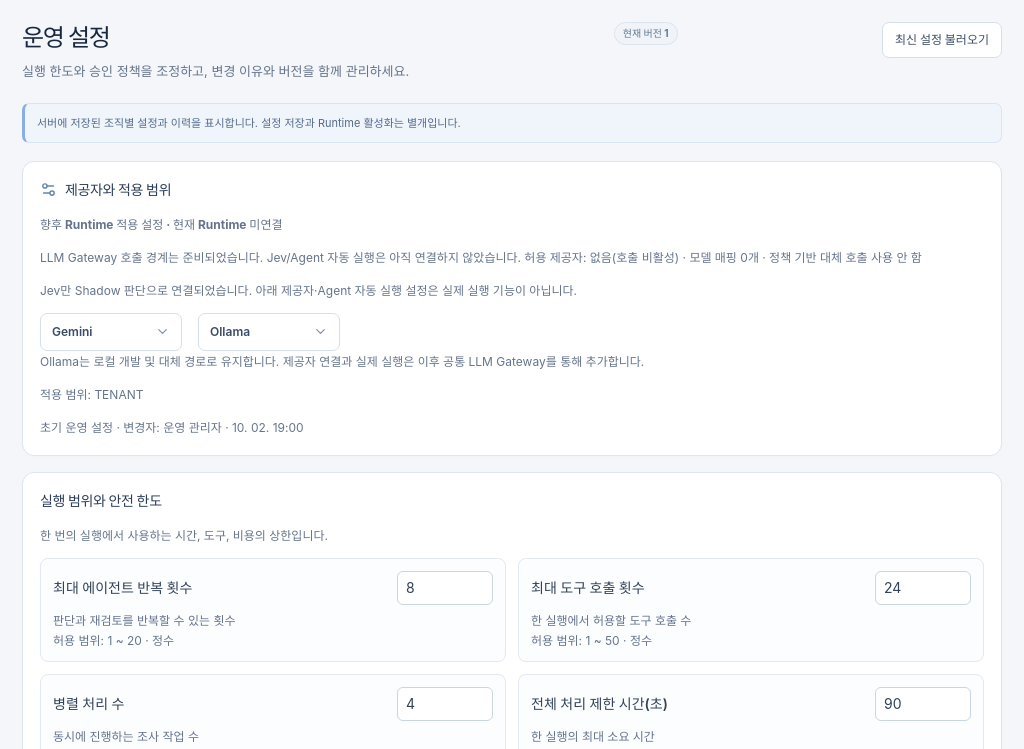
실제 Control Plane 화면 › 중복 submit을 막고 네트워크 재시도에는 동일 key를 유지한다
Replace the text in the number field labelled "최대 에이전트 반복 횟수" with "10" at (445, 588), box [397, 571, 493, 605]
(page scrolled)
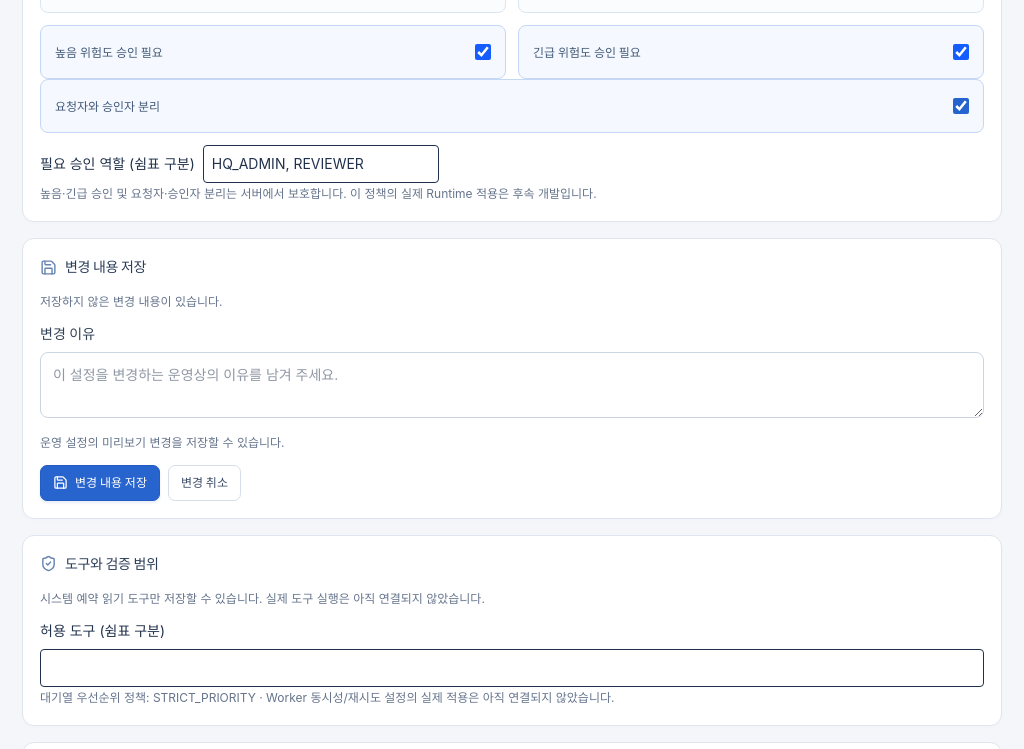
Type "예산 조정" into the text box labelled "변경 이유" at (512, 385), box [40, 352, 984, 418]
(page scrolled)
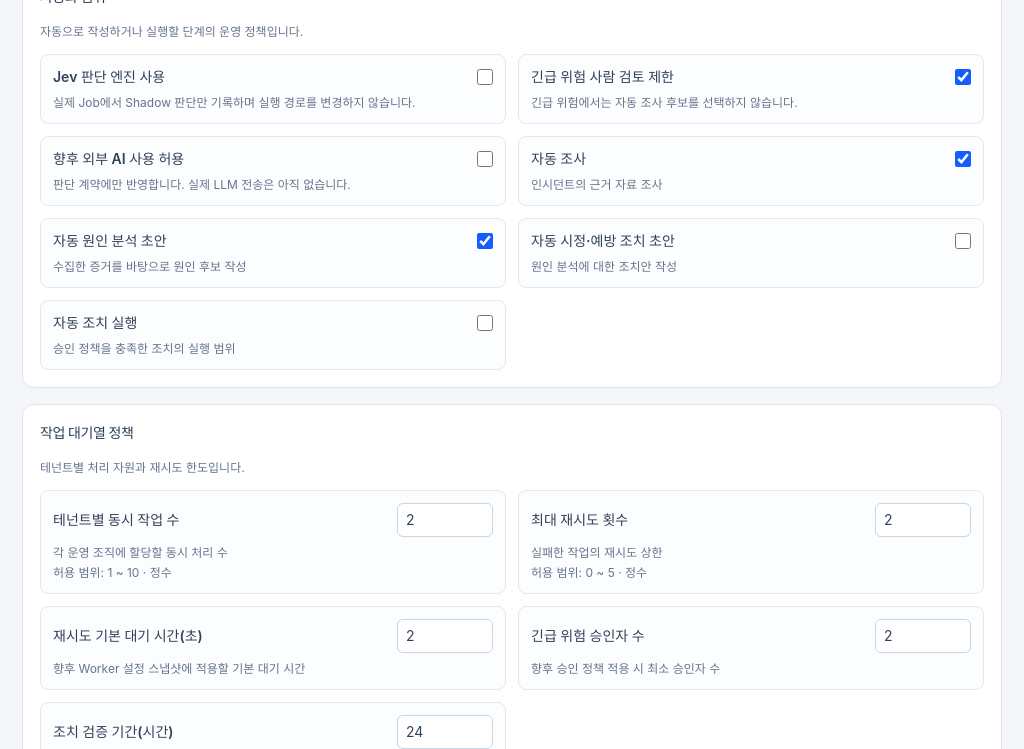
Submit the form named "변경 내용 저장"
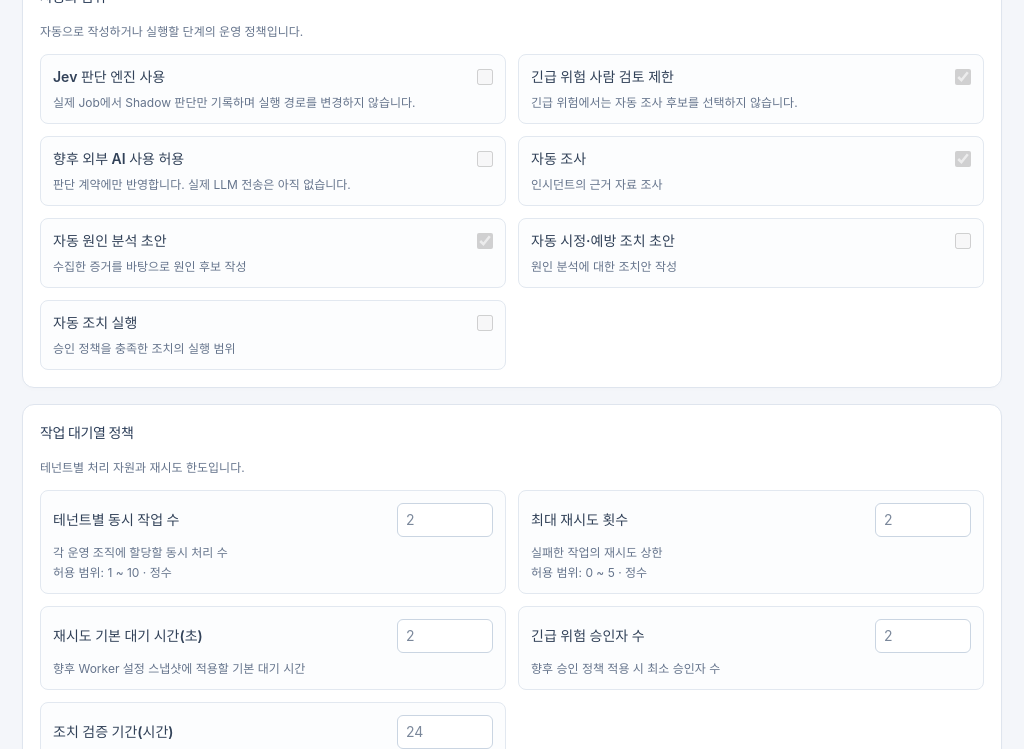
Submit the form named "변경 내용 저장"
(page scrolled)
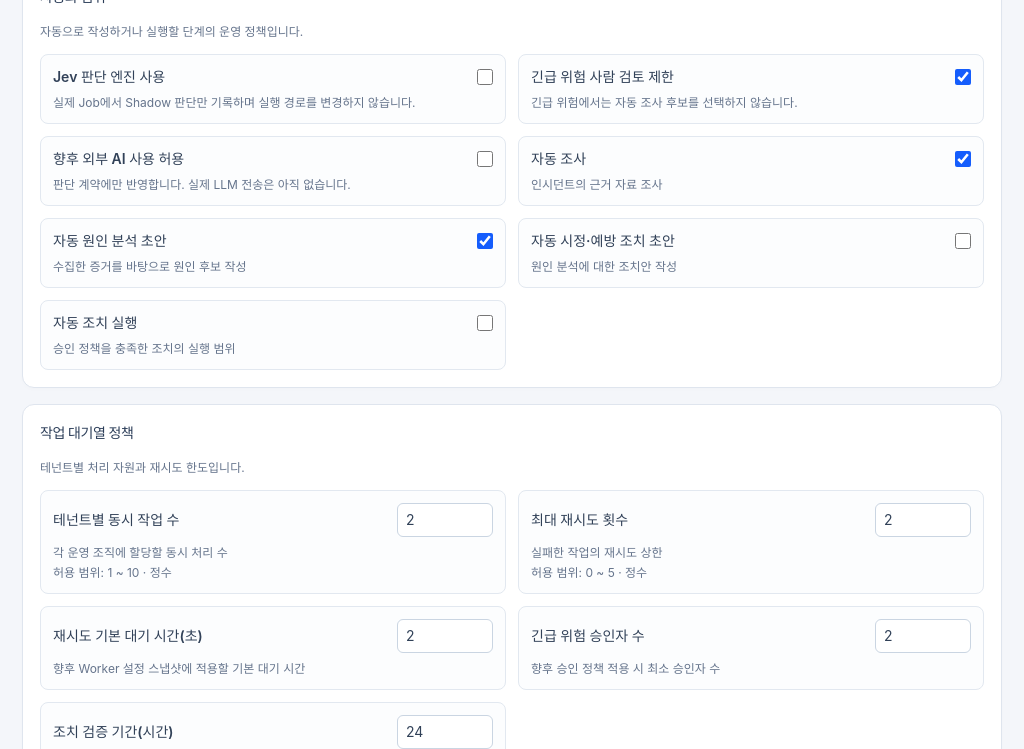
Submit the form named "변경 내용 저장"
(page scrolled)
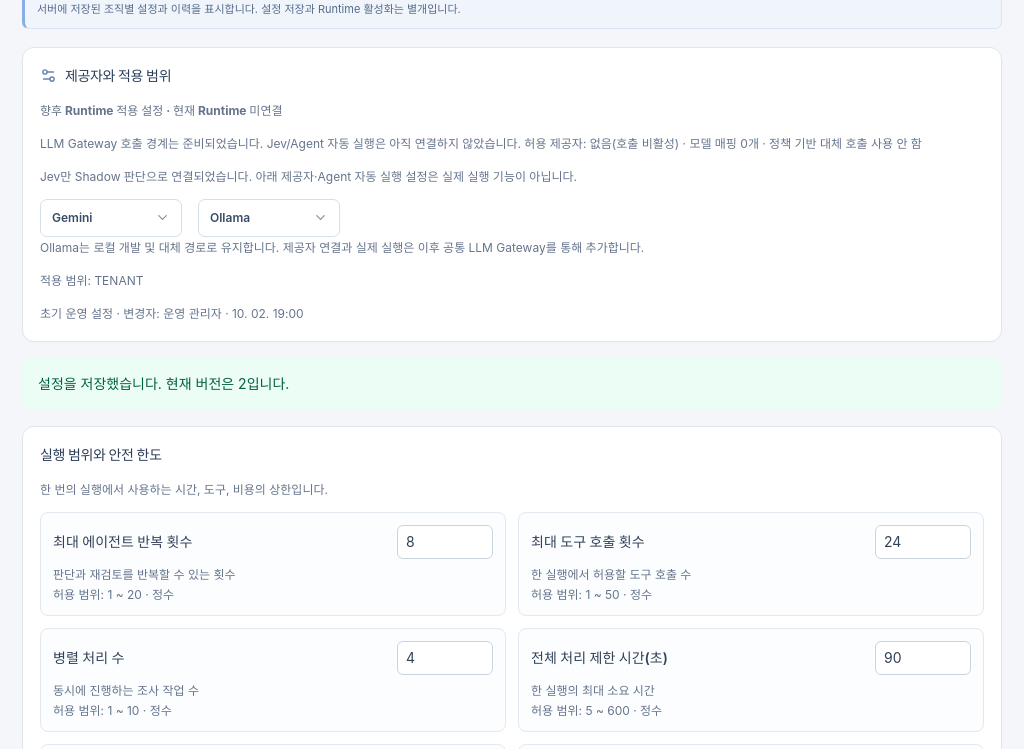
Expected: the text "설정을 저장했습니다. 현재 버전은 2입니다." is shown, [22, 358, 1002, 410]
